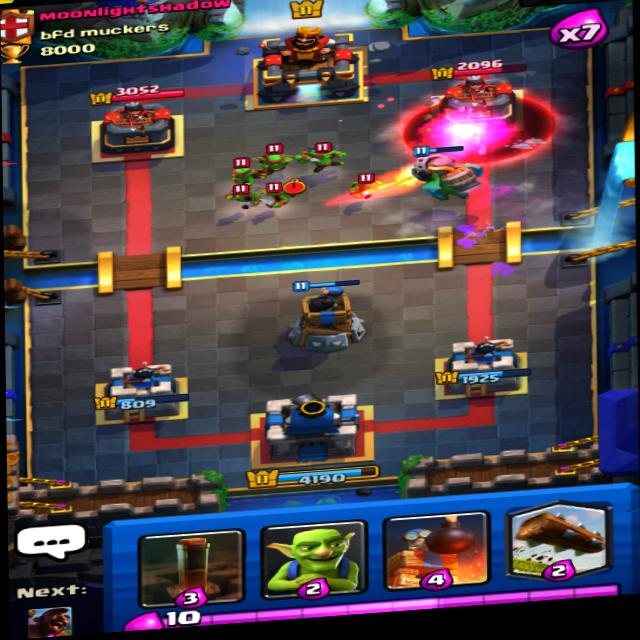goblin: (261, 176, 307, 210), (215, 178, 263, 209), (341, 167, 384, 198)
spear-goblin: (306, 135, 348, 173), (260, 138, 301, 176), (222, 153, 258, 193)
void: (407, 84, 554, 166)
